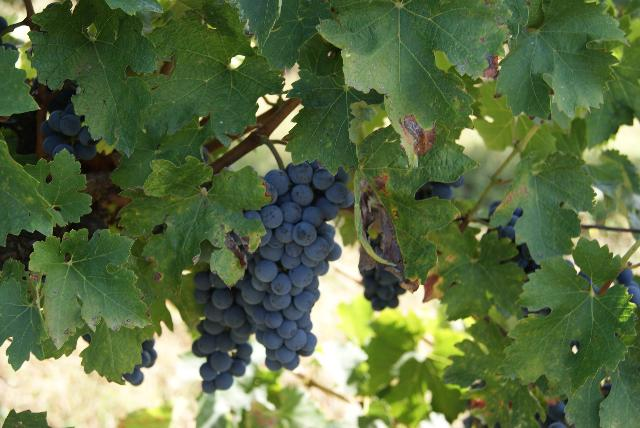grapes: (248, 160, 354, 371), (192, 271, 252, 394)
